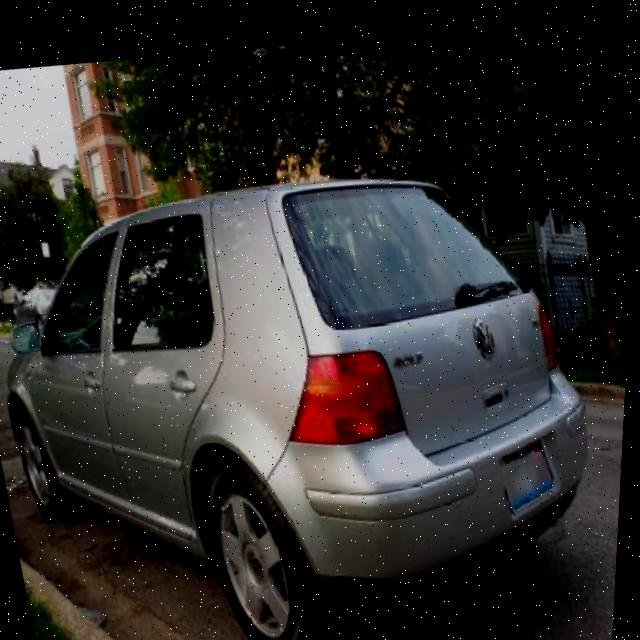license_plate: (496, 414, 567, 503)
